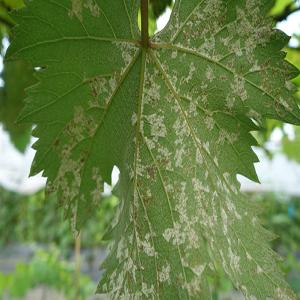Folha: (14, 0, 298, 295)
Fungo: (172, 130, 241, 284), (182, 1, 277, 64), (114, 216, 158, 295), (54, 152, 84, 239), (124, 133, 157, 211), (261, 64, 299, 115), (169, 70, 200, 125), (149, 12, 181, 63), (63, 103, 99, 148), (85, 72, 124, 111), (112, 35, 141, 68), (140, 69, 165, 107), (88, 169, 104, 209), (229, 74, 247, 102), (148, 112, 166, 137), (66, 0, 84, 20), (82, 0, 100, 18), (276, 287, 300, 300), (101, 275, 113, 298), (159, 267, 171, 286), (203, 114, 215, 130), (254, 259, 264, 278), (164, 224, 173, 245), (205, 64, 215, 82), (225, 94, 235, 110), (130, 111, 138, 126), (246, 250, 254, 264), (218, 73, 228, 82)
